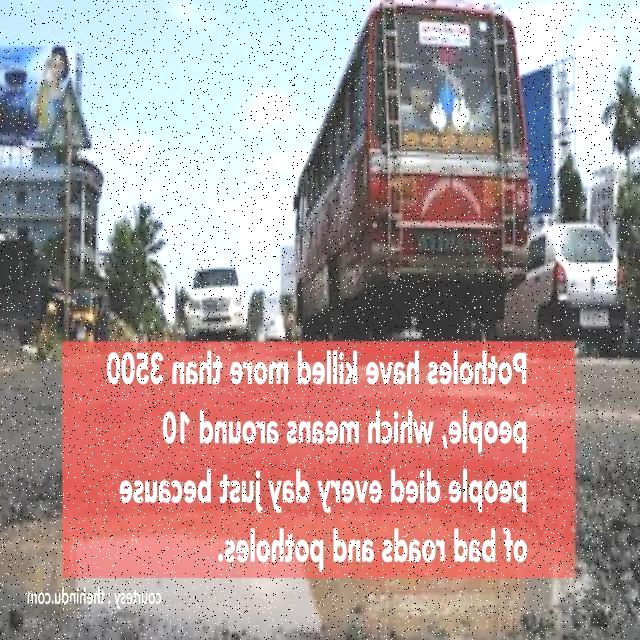pothole: (0, 503, 599, 640)
